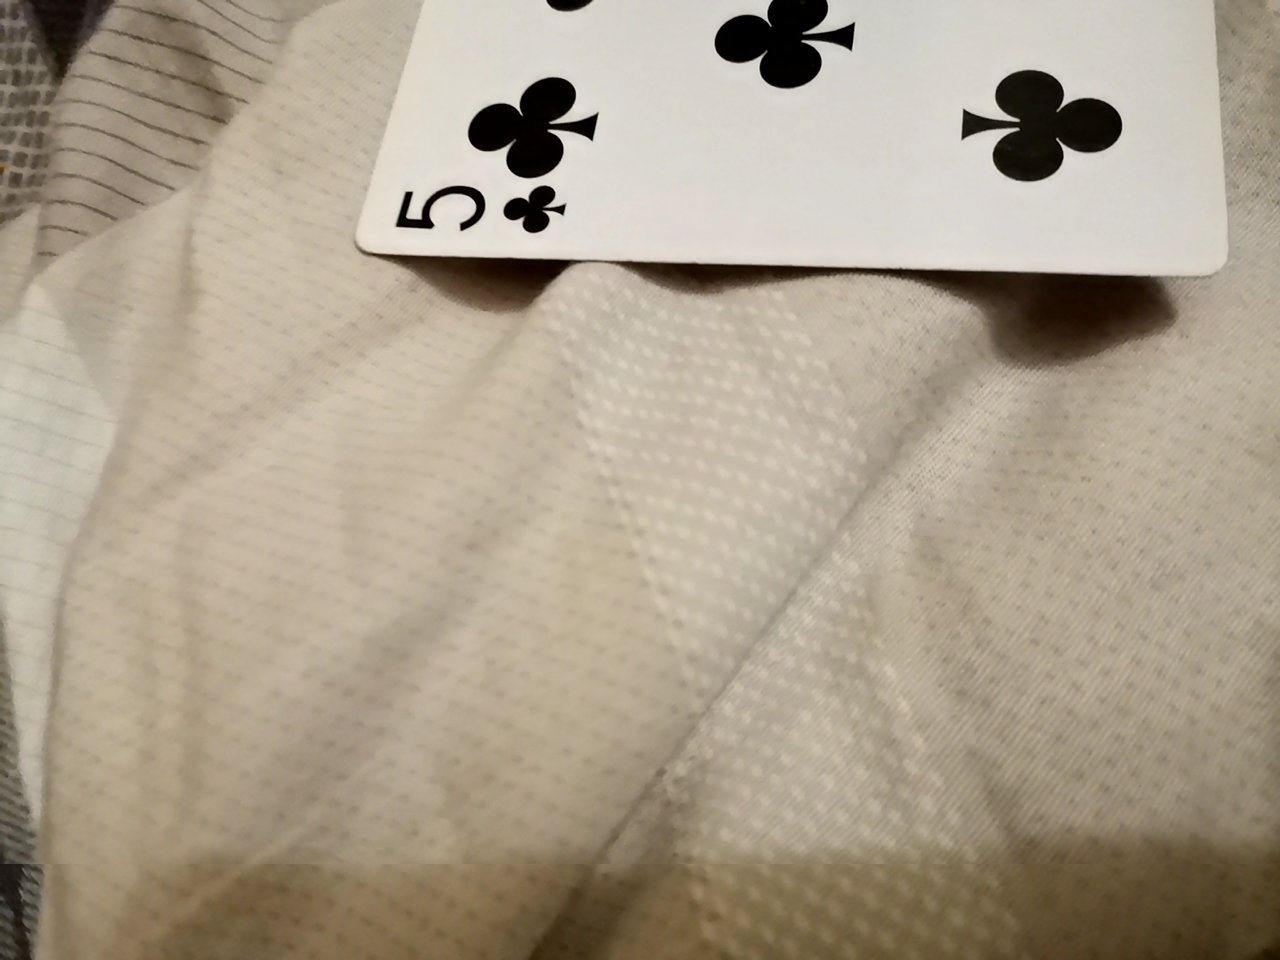mh 5: (377, 0, 1259, 277)
